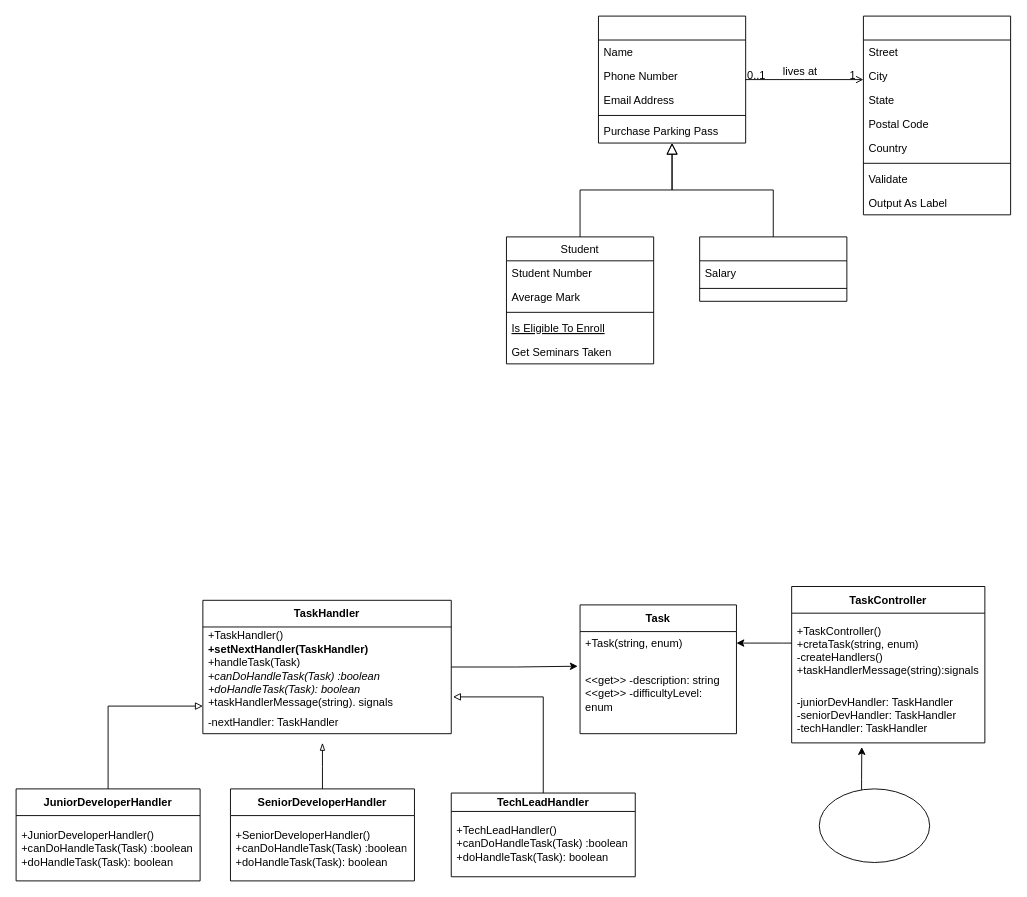
Image size: 1027x897. Some labels were removed from this diagram. The shapes that lost their labels are listed below. From the top down, each one's box as (x1, y1, x2, y2) in pixels, then its label:
(598, 15, 746, 143): Person
(862, 15, 1011, 215): Address
(699, 236, 847, 301): Professor
(818, 788, 930, 862): ui components use task conroller
